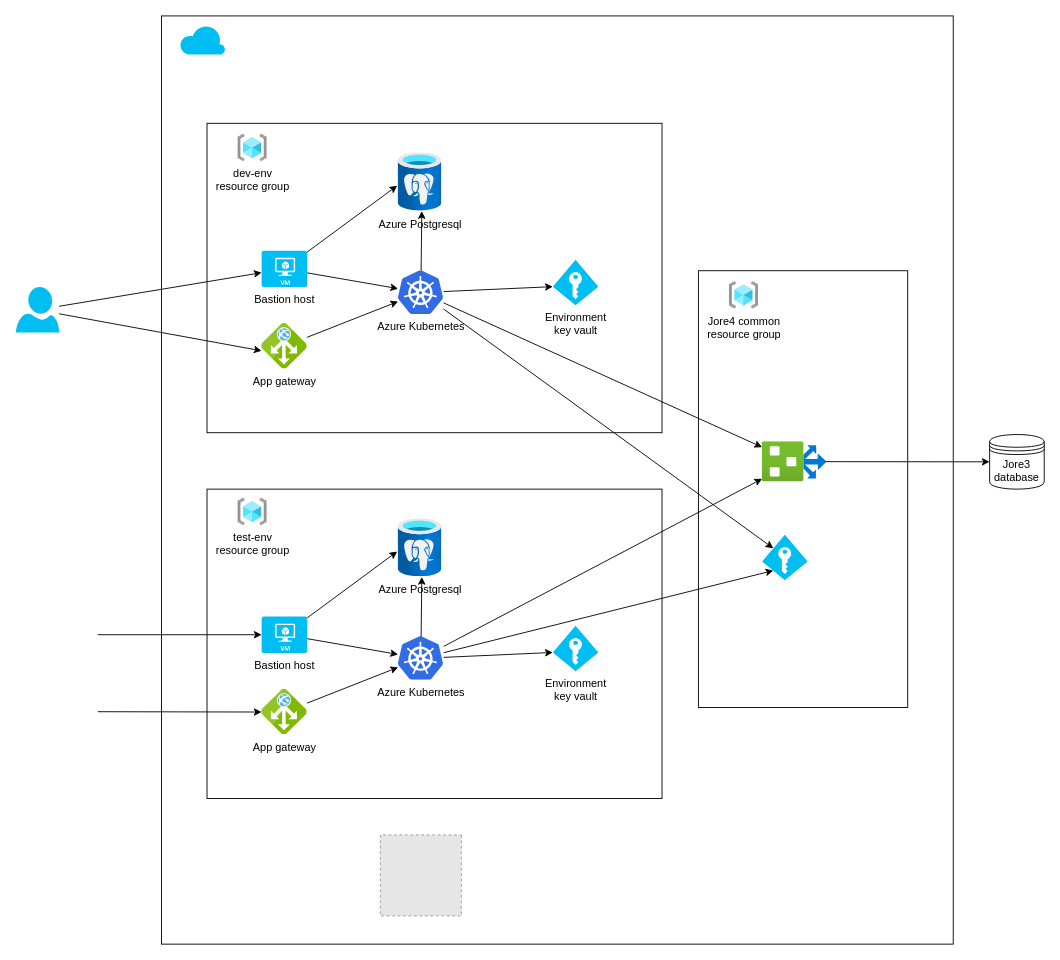
This 1060x960 diagram has some shape labels left out. Grey dashed boxes stand in for pictures. Each missing label, with the centre of its shape:
Common key vault: (784,557)
Jore4 Azure subscription: (202,39)
Jore4 routing table: (794,461)
